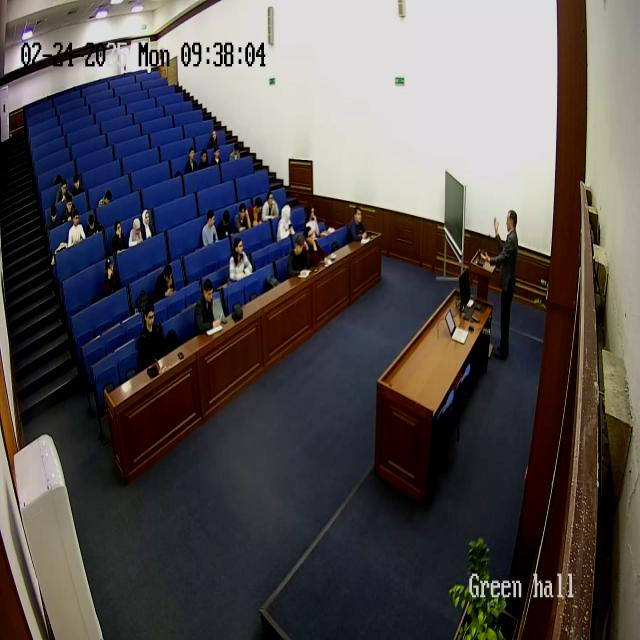person: (483, 208, 521, 360), (137, 301, 169, 369), (194, 278, 222, 335), (228, 235, 254, 281), (287, 232, 311, 277), (304, 223, 328, 267), (153, 262, 177, 300), (102, 256, 122, 298), (348, 204, 368, 243), (66, 209, 86, 246), (276, 203, 295, 241), (201, 208, 219, 246), (112, 219, 130, 255), (46, 203, 66, 234), (128, 216, 146, 248), (304, 205, 320, 239), (261, 190, 279, 220), (217, 207, 233, 239), (235, 200, 251, 232), (85, 212, 103, 240), (139, 208, 154, 241), (54, 174, 70, 204), (249, 196, 263, 226), (63, 196, 77, 226), (197, 146, 211, 172), (185, 148, 198, 175), (97, 189, 115, 208), (71, 174, 85, 198), (206, 128, 220, 152), (228, 139, 242, 161), (210, 143, 222, 168)
